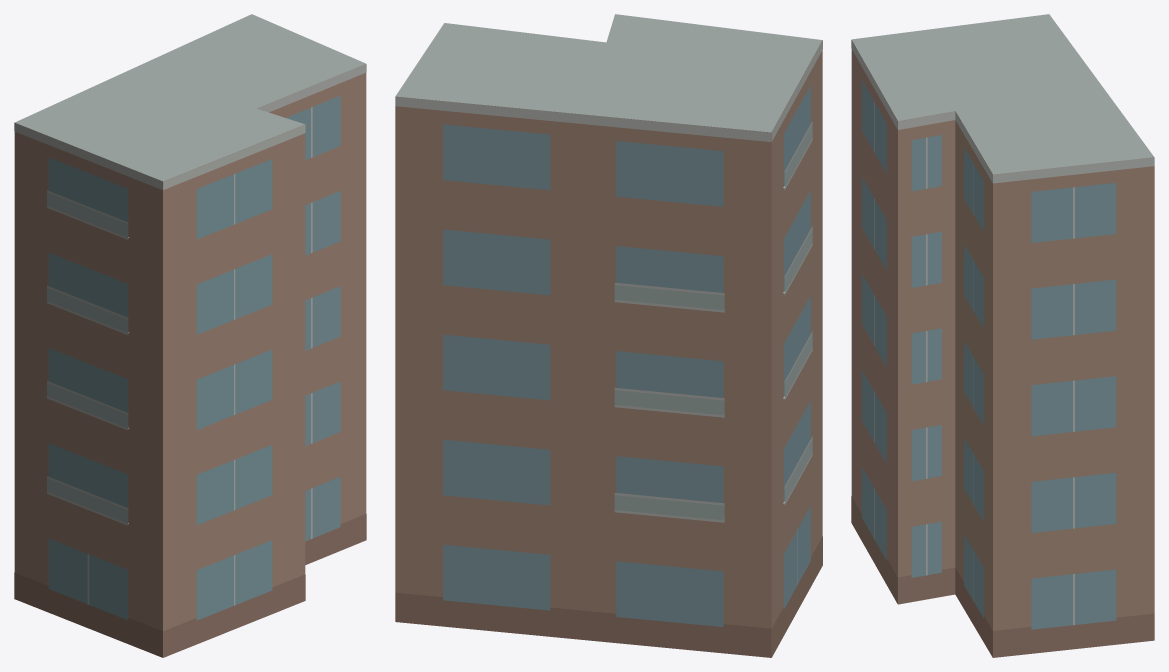
Rendered from survey-upis-32648702.glb.
3 renders of one model, left to right at view 1: azimuth 30°, elevation 25°; view 2: azimuth 150°, elevation 25°; view 3: azimuth 270°, elevation 25°, orthographic. The views are drawn at different scales.
Visible parts, largest first — view 1: survey-upis-32648702.tmp; view 2: survey-upis-32648702.tmp; view 3: survey-upis-32648702.tmp.
Boxes of the visible parts, x1,y1,x2,y2 form: survey-upis-32648702.tmp: (14,14,366,657); survey-upis-32648702.tmp: (395,14,822,657); survey-upis-32648702.tmp: (851,14,1154,657).
Bounding box in the file's own units: 9.45 × 13.25 × 7.54.
